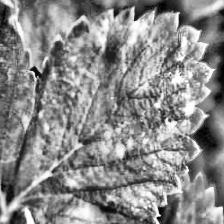Powdery Mildew Leaf: (4, 5, 216, 224), (0, 0, 38, 213)
